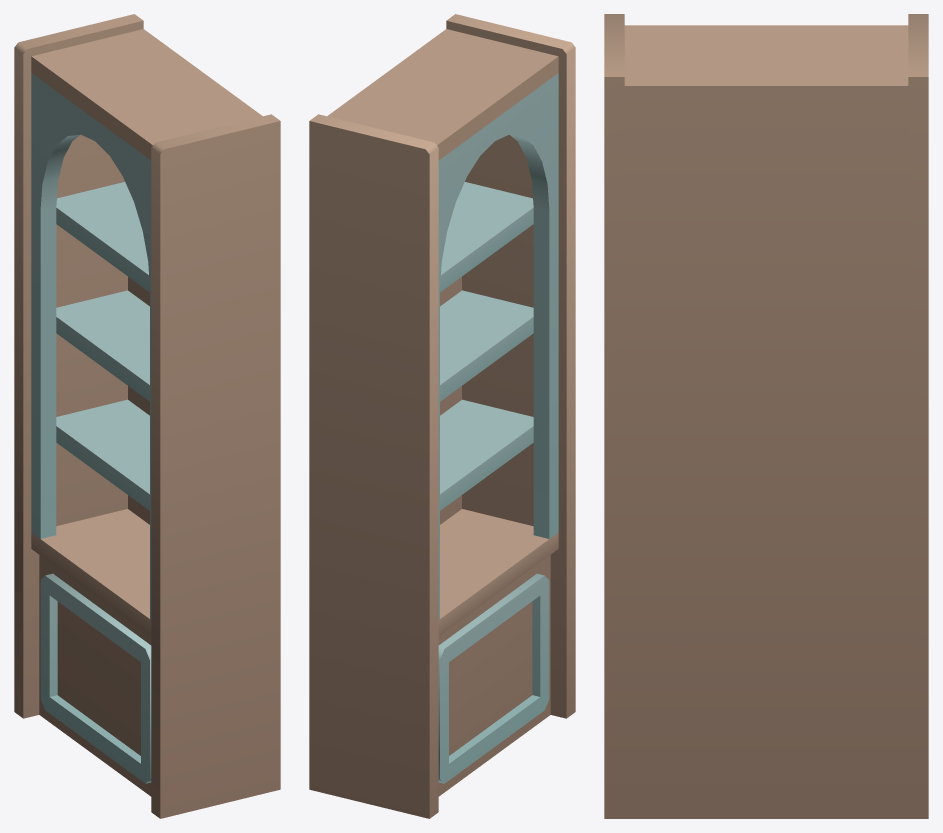
File: cabinet-bookcase-arch-front.glb
3 renders of one model, left to right at view 1: azimuth 30°, elevation 25°; view 2: azimuth 150°, elevation 25°; view 3: azimuth 270°, elevation 25°, orthographic. The views are drawn at different scales.
Parts seen in each view (by area): view 1: cabinet-bookcase-arch-front; view 2: cabinet-bookcase-arch-front; view 3: cabinet-bookcase-arch-front.
Boxes of the visible parts, left/top/right/bottom form: cabinet-bookcase-arch-front: left=14, top=14, right=280, bottom=818; cabinet-bookcase-arch-front: left=309, top=14, right=575, bottom=818; cabinet-bookcase-arch-front: left=604, top=14, right=928, bottom=818.
Size of the model in its own units: 0.38 by 2.02 by 0.8.
